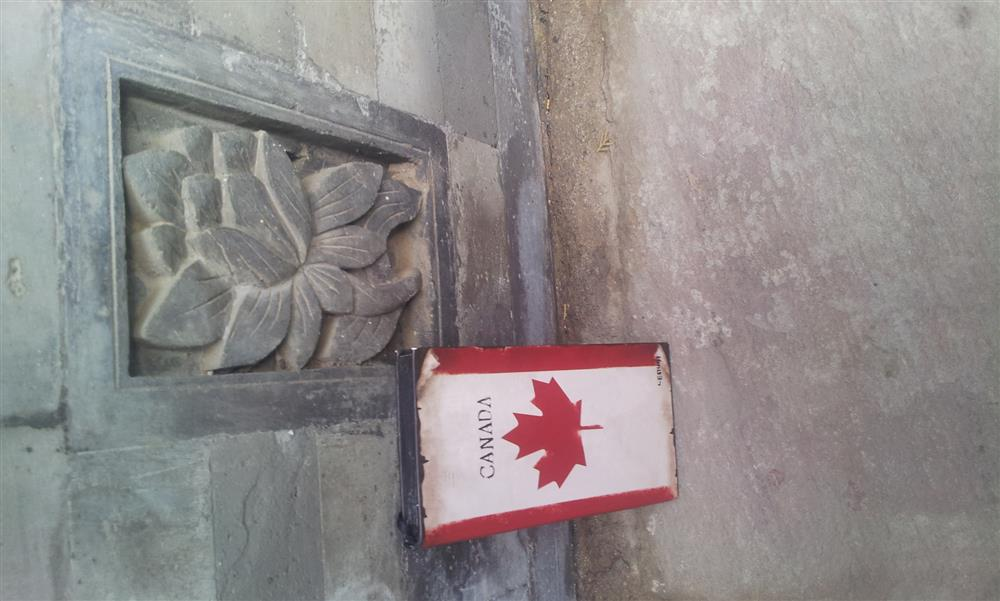canada_book: (391, 333, 679, 542)
